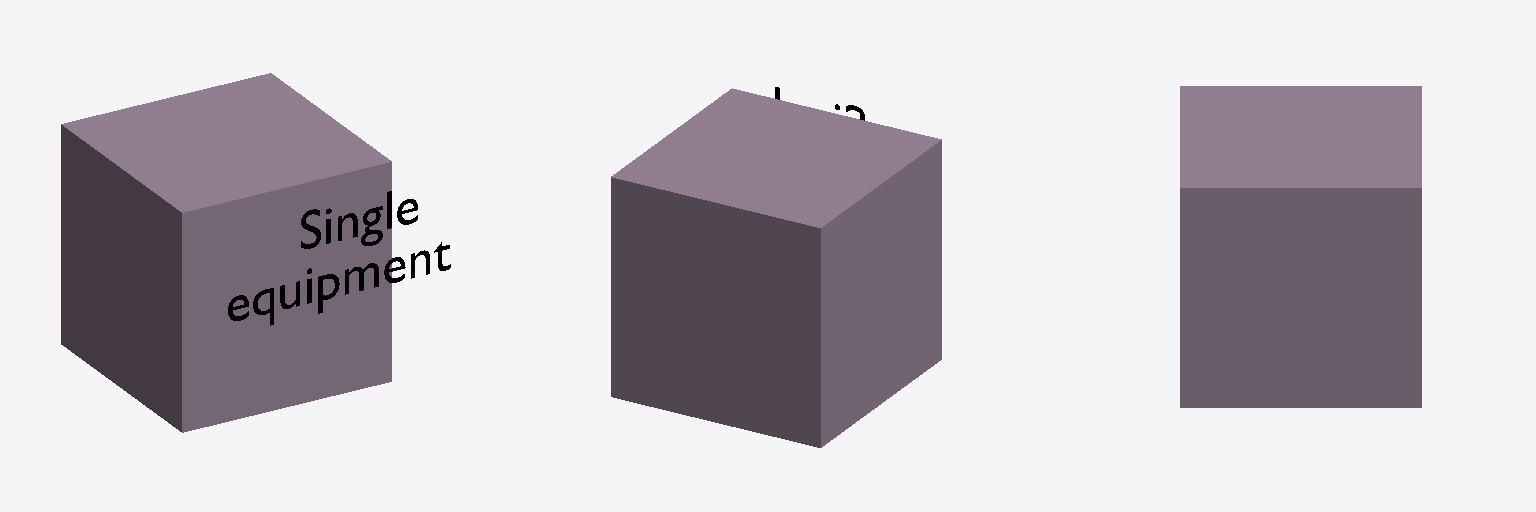
The model's file is equip.obj.
The picture shows the model from 3 angles: view 1: azimuth 30°, elevation 25°; view 2: azimuth 150°, elevation 25°; view 3: azimuth 270°, elevation 25°; orthographic projection.
Parts seen in each view (by area): view 1: Cube, Text; view 2: Cube; view 3: Cube.
Part boxes in pixels (x1,y1,x2,y2): Cube: (61,73,391,432); Text: (228,191,450,325); Cube: (611,88,941,447); Cube: (1180,86,1421,407).
Bounding box in the file's own units: 2.36 × 2 × 2.35.